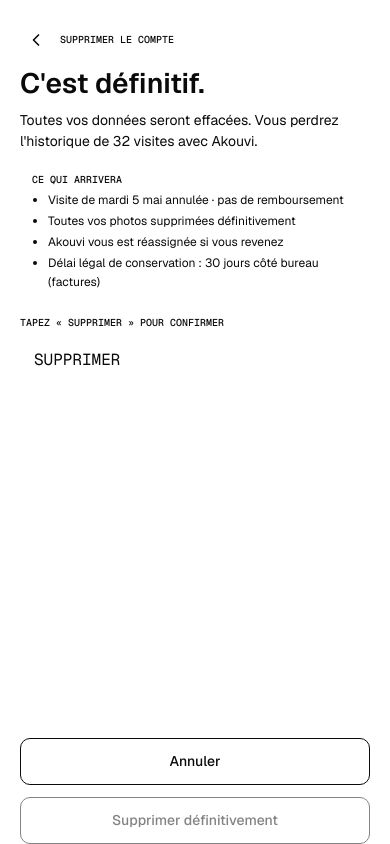
Scenario: Subscriber profile · X-28 Delete (typed-confirmation) › keeps the danger CTA disabled until SUPPRIMER is typed exactly
Expected: the button "Supprimer définitivement" is disabled, [20, 797, 370, 843]
Type "sup" into the field labelled "TAPEZ « SUPPRIMER » POUR CONFIRMER" at (195, 360), box [20, 336, 370, 384]
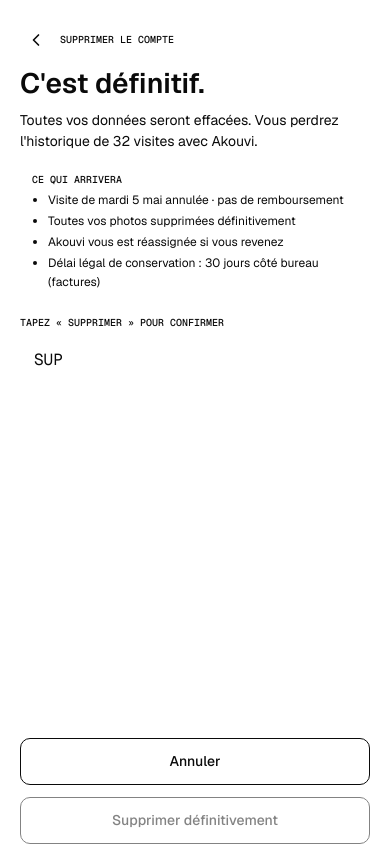
Expected: the button "Supprimer définitivement" is disabled, [20, 797, 370, 843]
Replace the text in the field labelled "TAPEZ « SUPPRIMER » POUR CONFIRMER" with "SUPPRIMER" at (195, 360), box [20, 336, 370, 384]
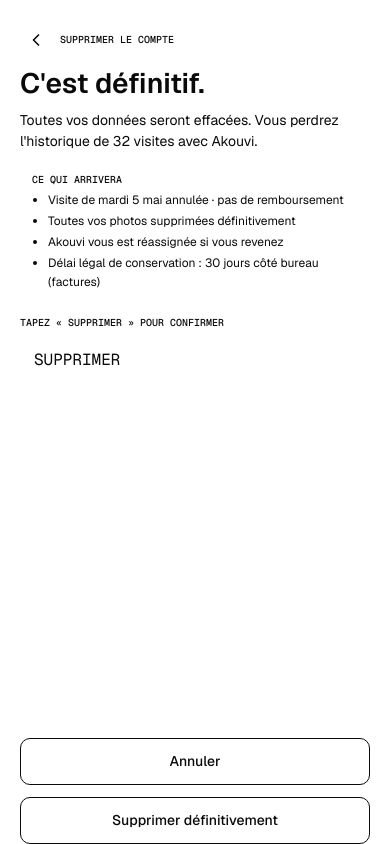
Now the button "Supprimer définitivement" is enabled, box [20, 797, 370, 843]
// Trailing whitespace is forgiven.
Type "  SUPPRIMER  " into the field labelled "TAPEZ « SUPPRIMER » POUR CONFIRMER" at (195, 360), box [20, 336, 370, 384]
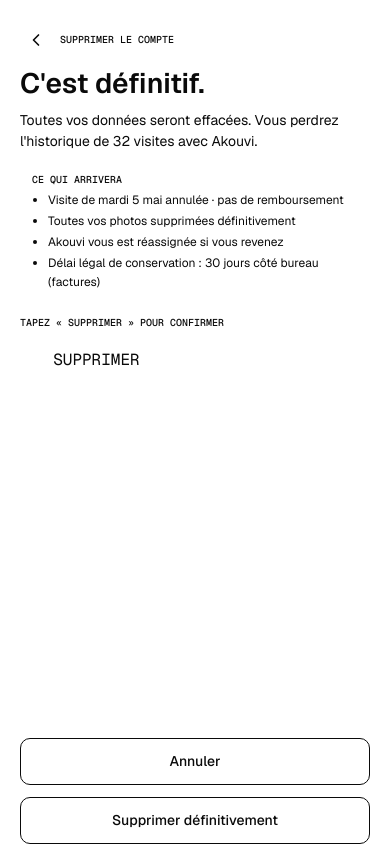
Now the button "Supprimer définitivement" is enabled, box [20, 797, 370, 843]
// Wrong casing is rejected.
Type "supprimer" into the field labelled "TAPEZ « SUPPRIMER » POUR CONFIRMER" at (195, 360), box [20, 336, 370, 384]
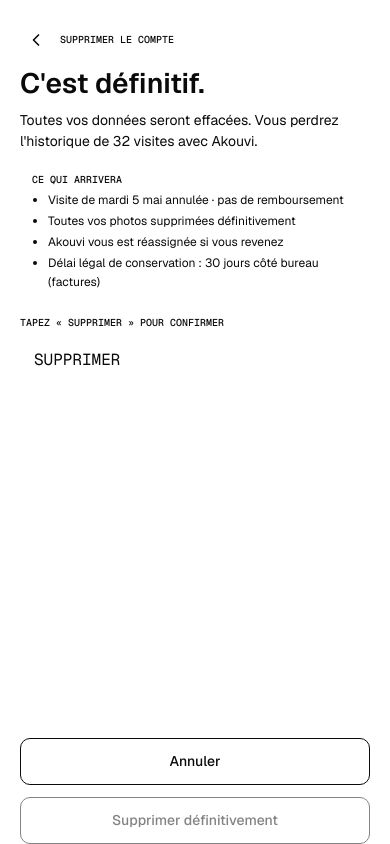
Now the button "Supprimer définitivement" is disabled, box [20, 797, 370, 843]
